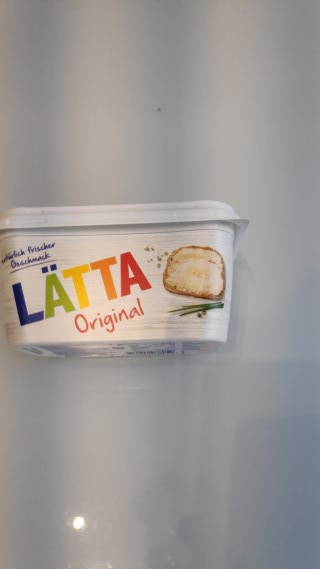laetta: (1, 198, 250, 361)
